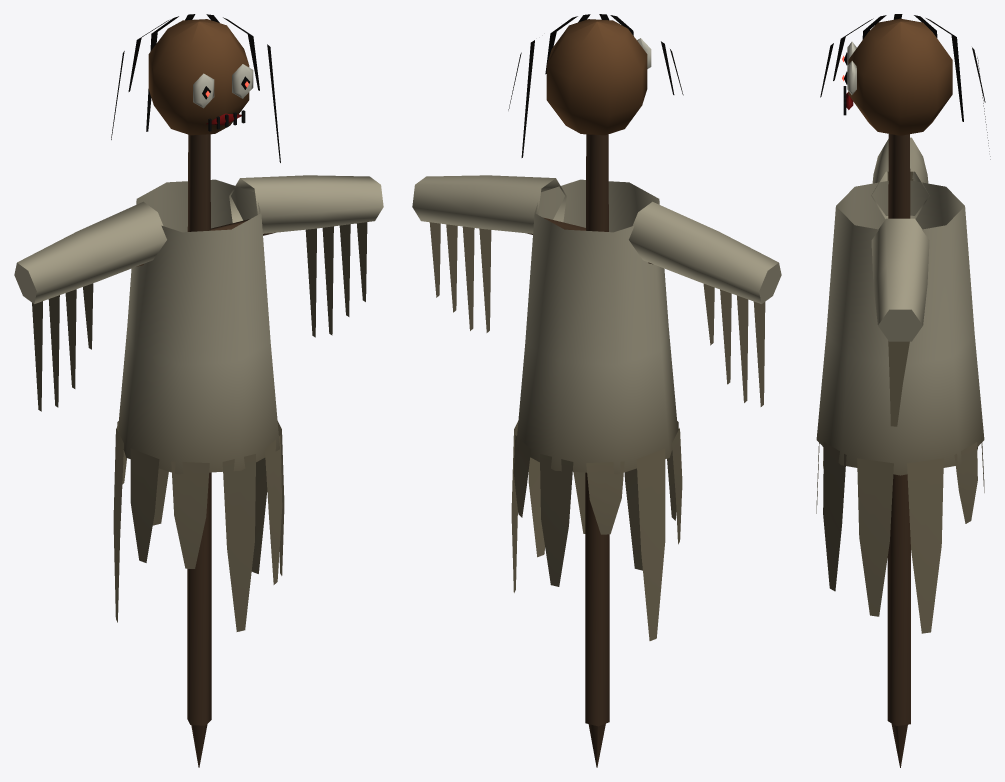
The model's file is jelangkung.glb.
3 views of the same model, side by side, from view 1: azimuth 30°, elevation 25°; view 2: azimuth 150°, elevation 25°; view 3: azimuth 270°, elevation 25° (orthographic).
Visible parts, largest first — view 1: jelangkung; view 2: jelangkung; view 3: jelangkung.
Boxes of the visible parts, x1,y1,x2,y2 form: jelangkung: (14,14,383,767); jelangkung: (412,14,781,767); jelangkung: (816,14,990,767).
Size of the model in its own units: 0.6308 by 1.28 by 0.2793.
